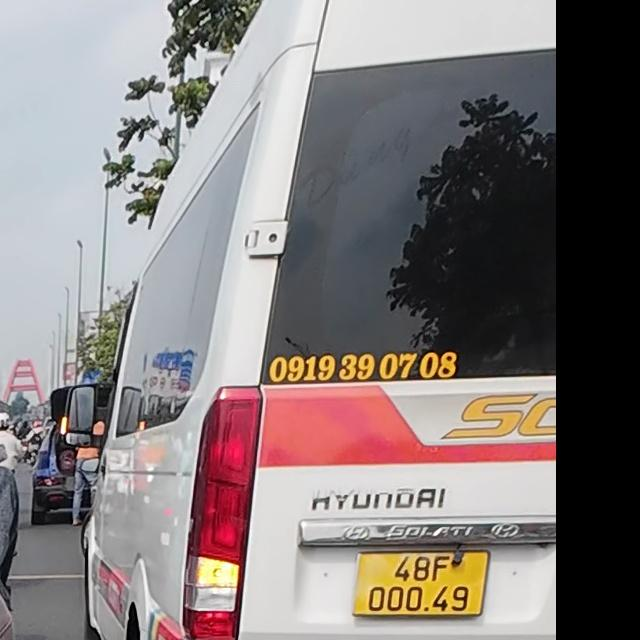license-plate: (355, 548, 487, 618)
